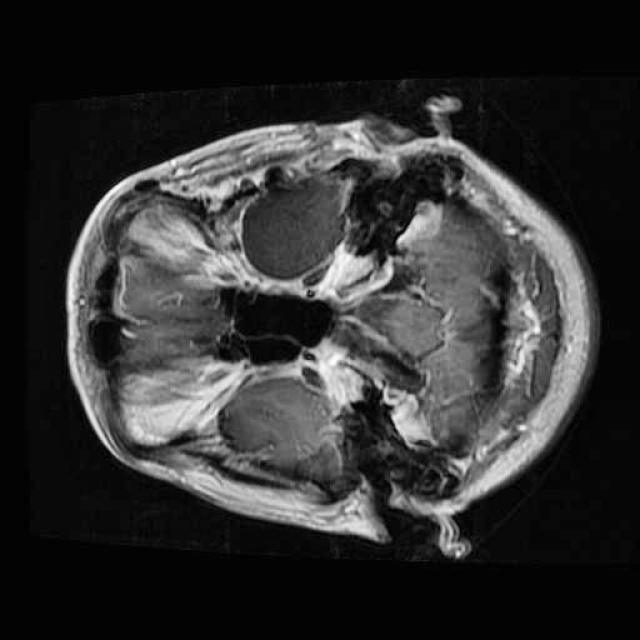Non-Tumor: (221, 162, 360, 292)
